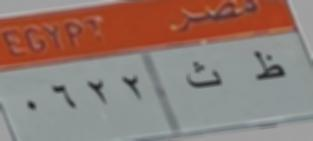0: (23, 93, 40, 115)
2: (120, 65, 144, 107), (85, 76, 110, 111)
6: (49, 80, 77, 115)
Thaa: (246, 47, 288, 85)
thaa: (180, 56, 224, 93)
